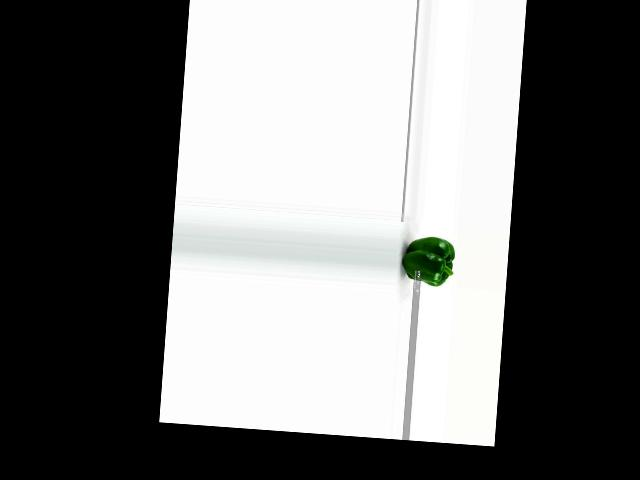bell_pepper: (398, 232, 458, 287)
